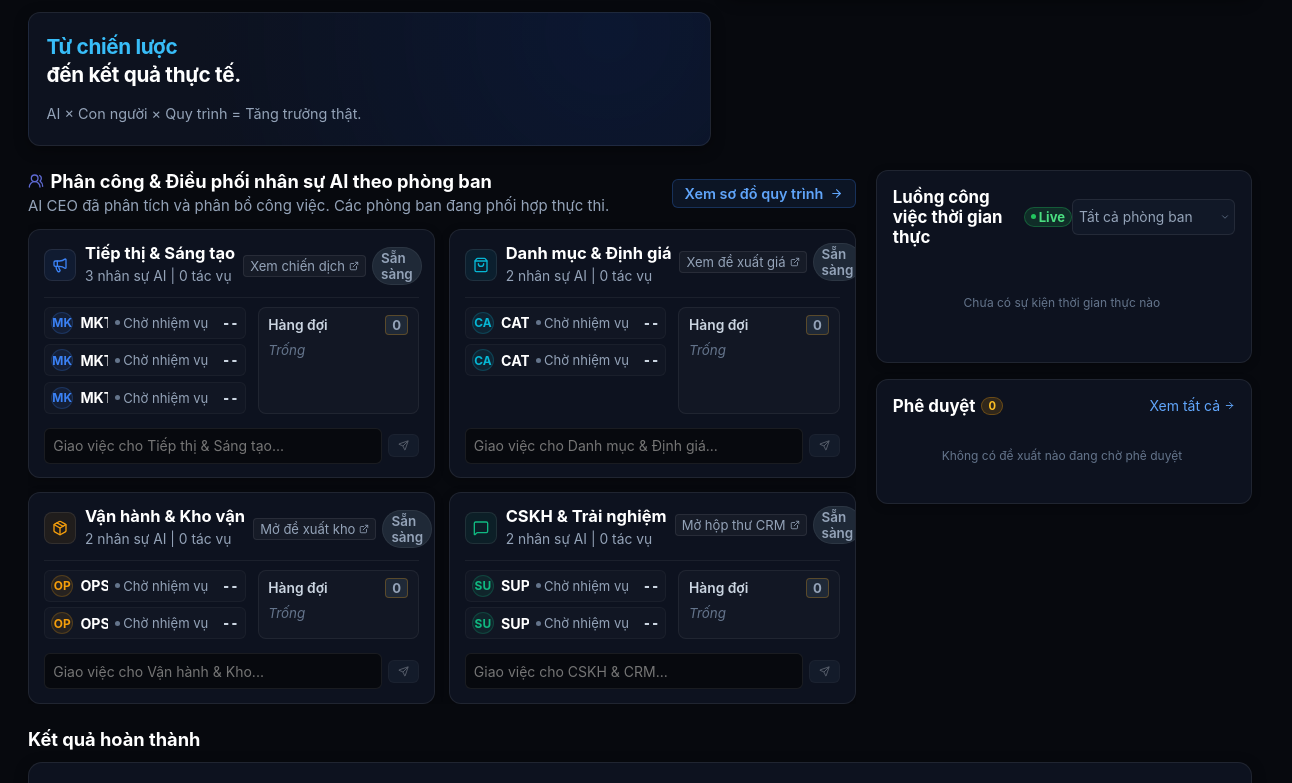
Test case: AgenticCommandCenter Department Task Queue & Direct Input Unblocking › enqueues task with queue badge and waiting card when required resource is locked
(page scrolled)
# Marketing initiates a task which locks marketing_copywriter
In the field with placeholder "Giao việc cho Tiếp thị & Sáng tạo...": coordinates (213, 446) [44,428,382,464], type "Soạn bài viết và vẽ poster mới"
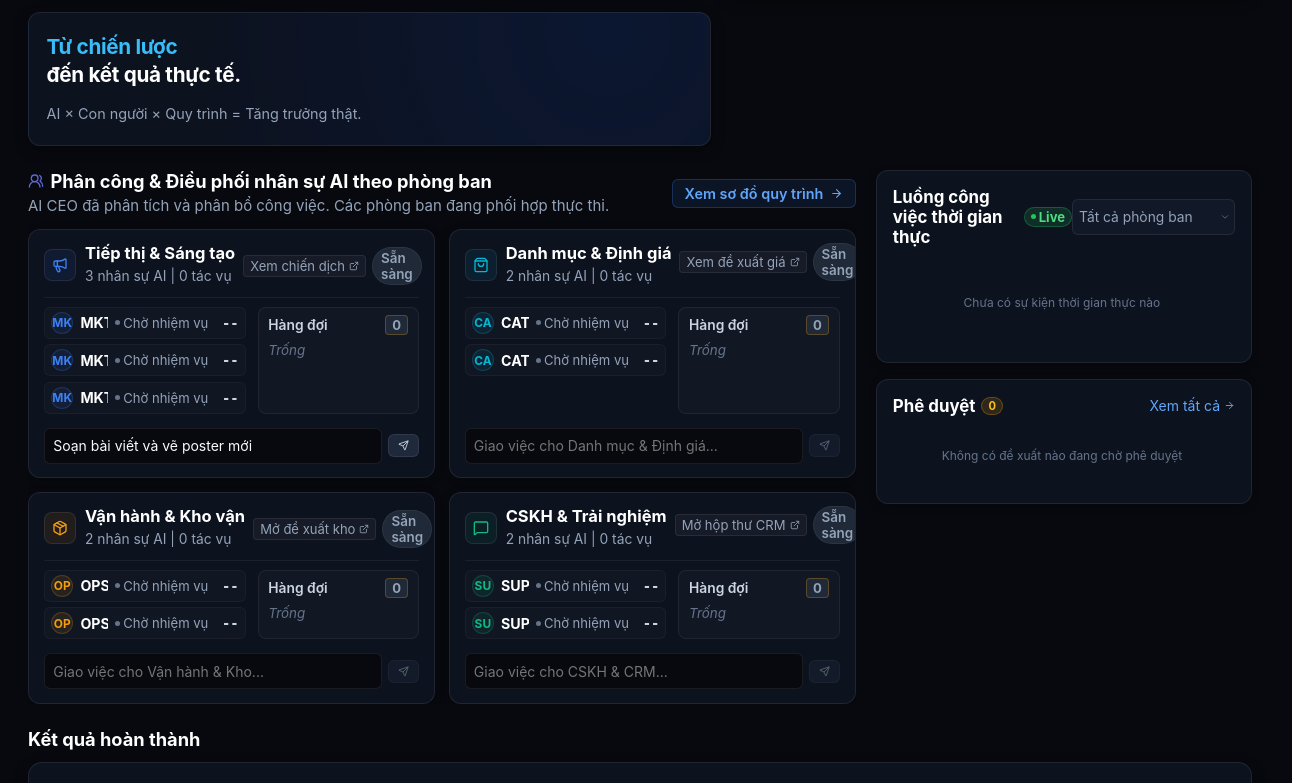
Submit the form with placeholder "Giao việc cho Tiếp thị & Sáng tạo..." below "MKT-03", box [44,428,419,464]
Wait 100 ms
(page scrolled)
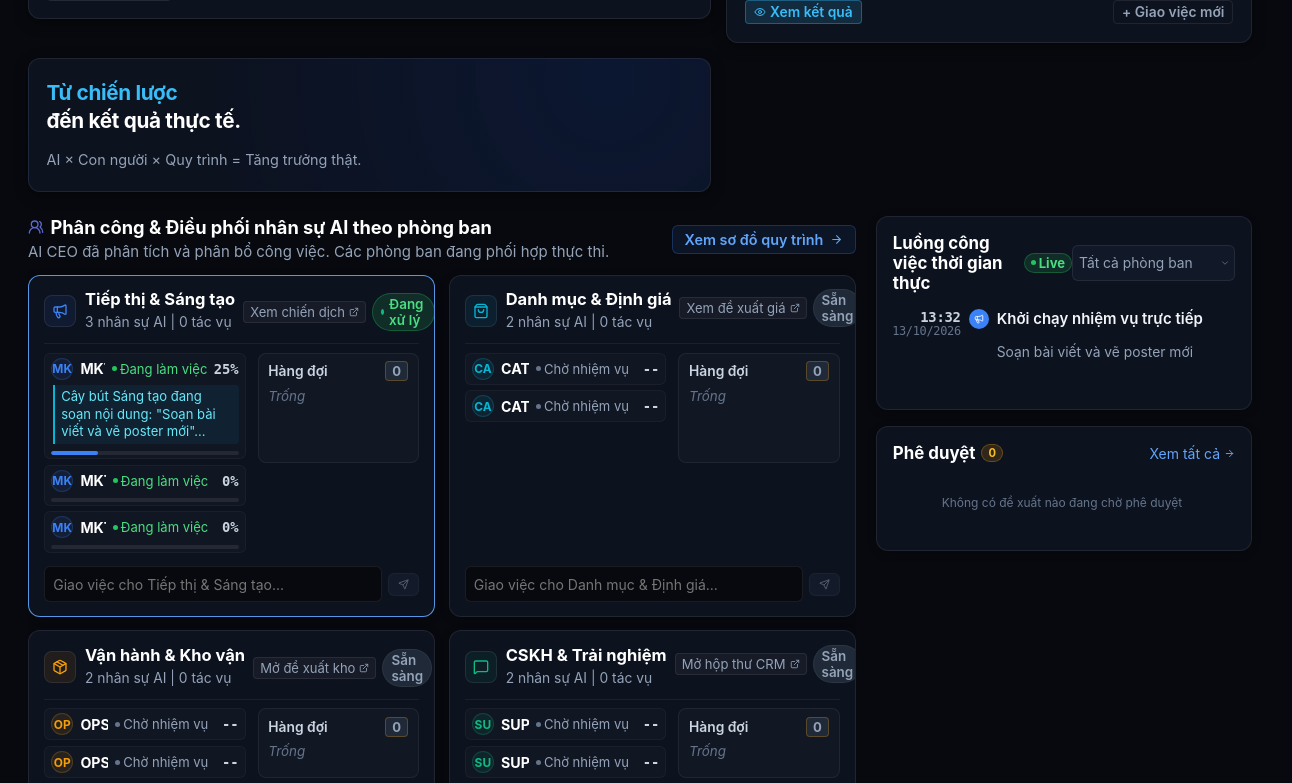
# While Marketing is busy with task 1, submit another Marketing task
In the field with placeholder "Giao việc cho Tiếp thị & Sáng tạo...": coordinates (213, 584) [44,566,382,602], type "Viết thêm bài Flash Sale cuối tuần"
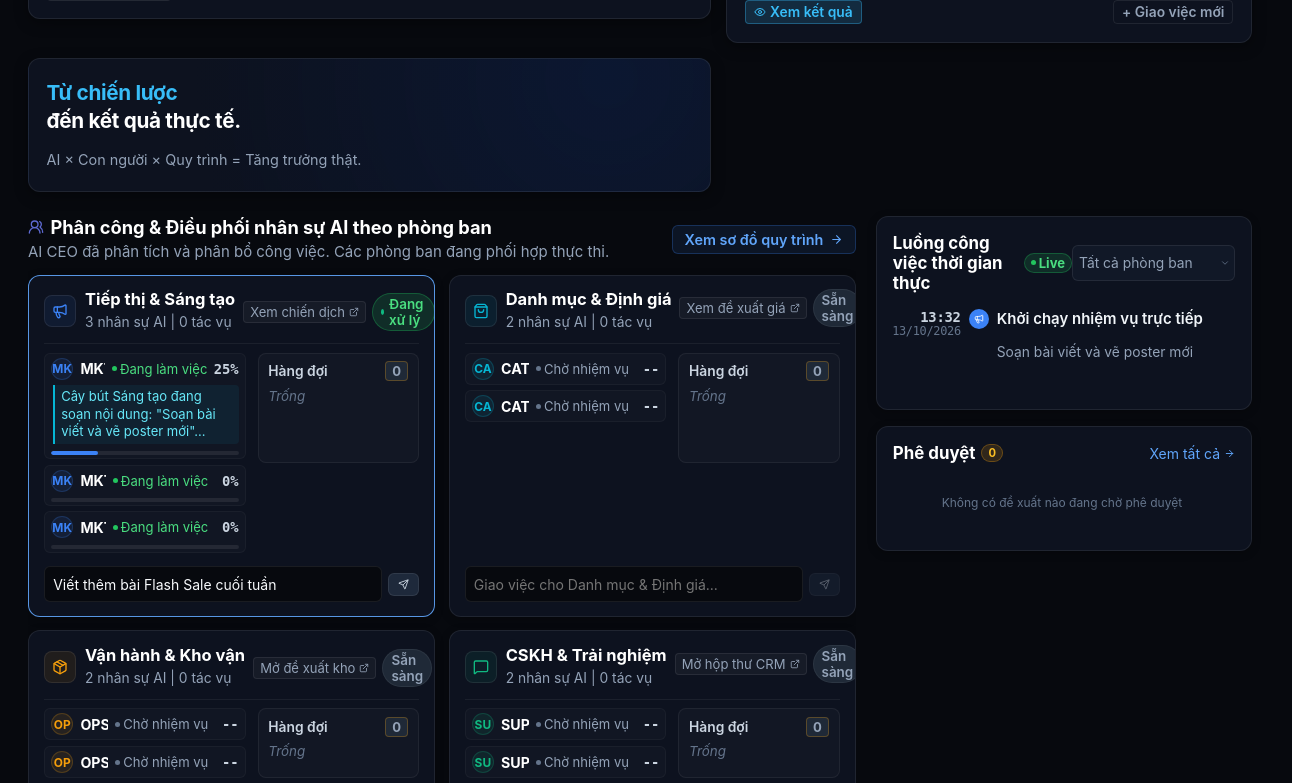
Submit the form with placeholder "Giao việc cho Tiếp thị & Sáng tạo..." below "MKT-03", box [44,566,419,602]
Wait 50 ms
(page scrolled)
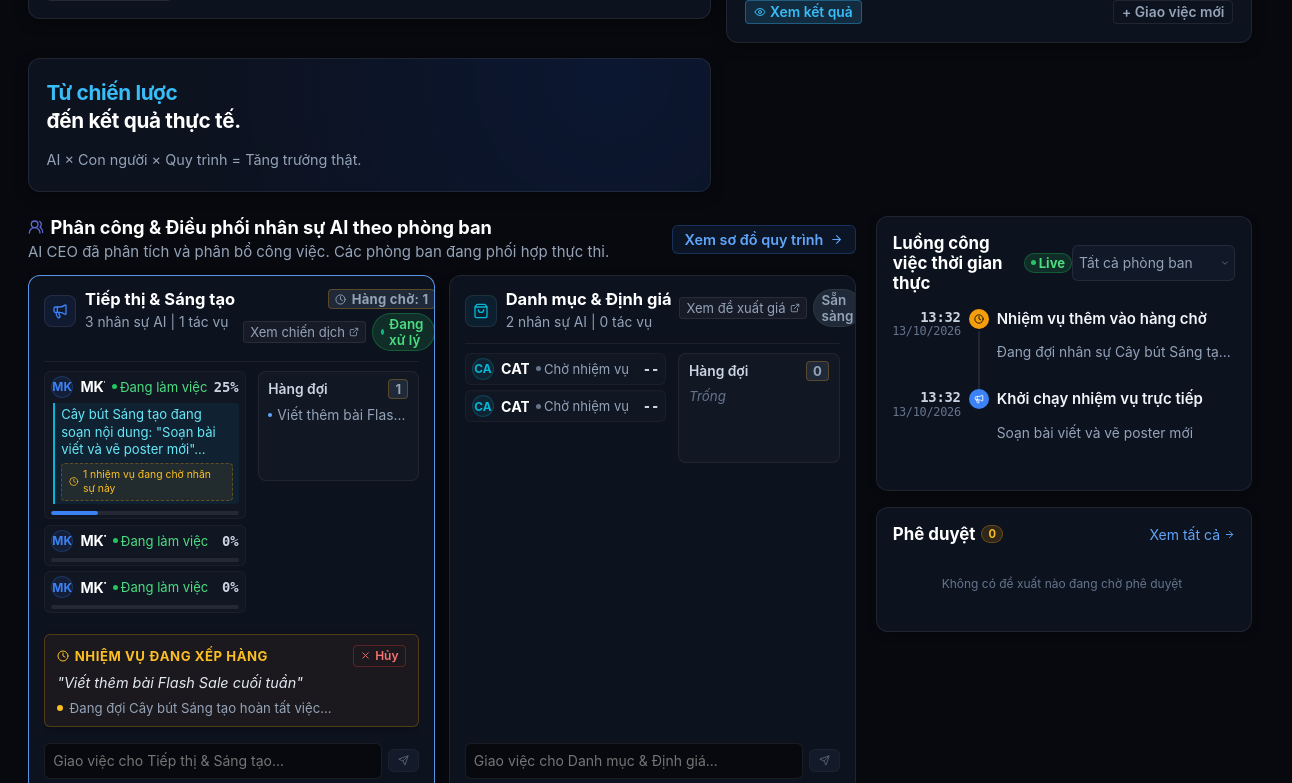
Check: the text "Hàng chờ: 1" is shown, box [352,291,428,307]
Check: the text "Nhiệm vụ đang xếp hàng" is shown, box [75,648,268,664]
Check: the text "\"Viết thêm bài Flash Sale cuối tuần\"" is shown, box [57,674,303,691]
# Operator clicks "Hủy" on the waiting card
Click the button titled "Hủy nhiệm vụ khỏi hàng chờ": coordinates (379, 656) [353,645,406,667]
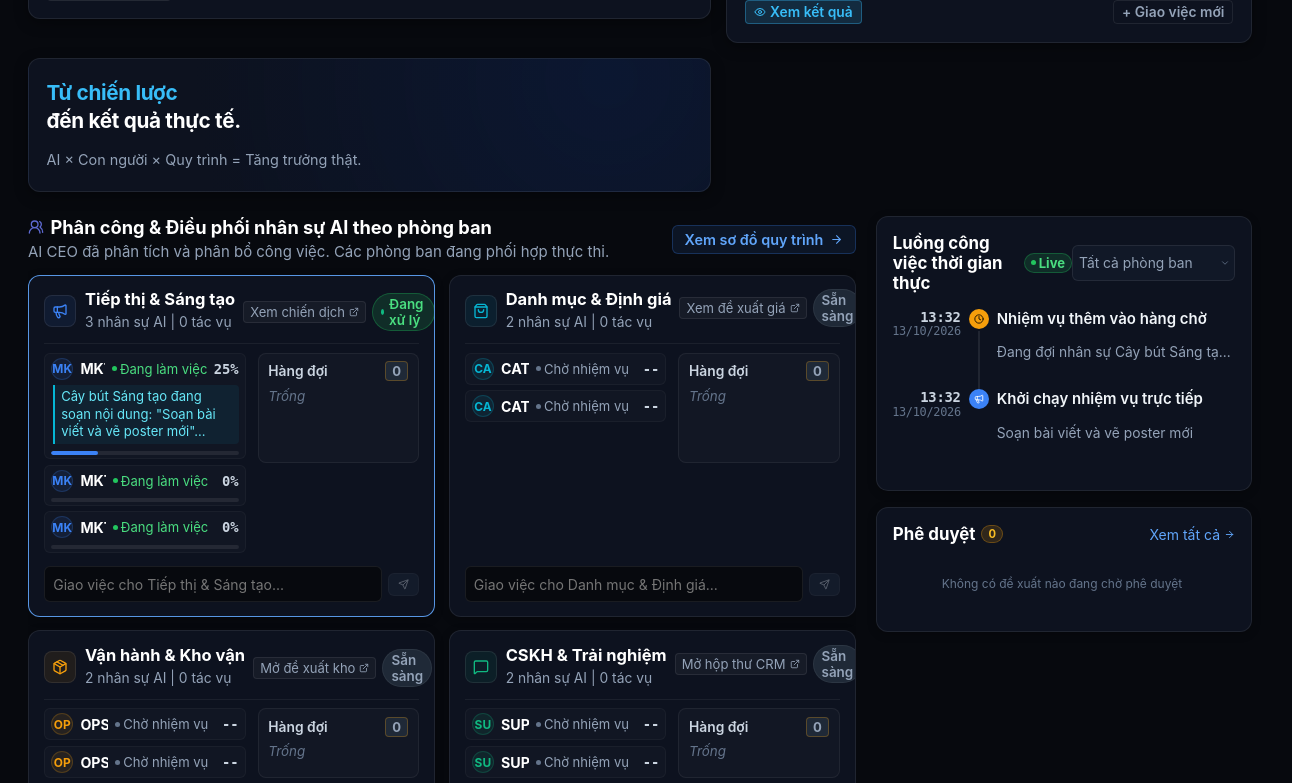
Check: the text "Hàng chờ: 1" is gone
Check: the text "Nhiệm vụ đang xếp hàng" is gone
